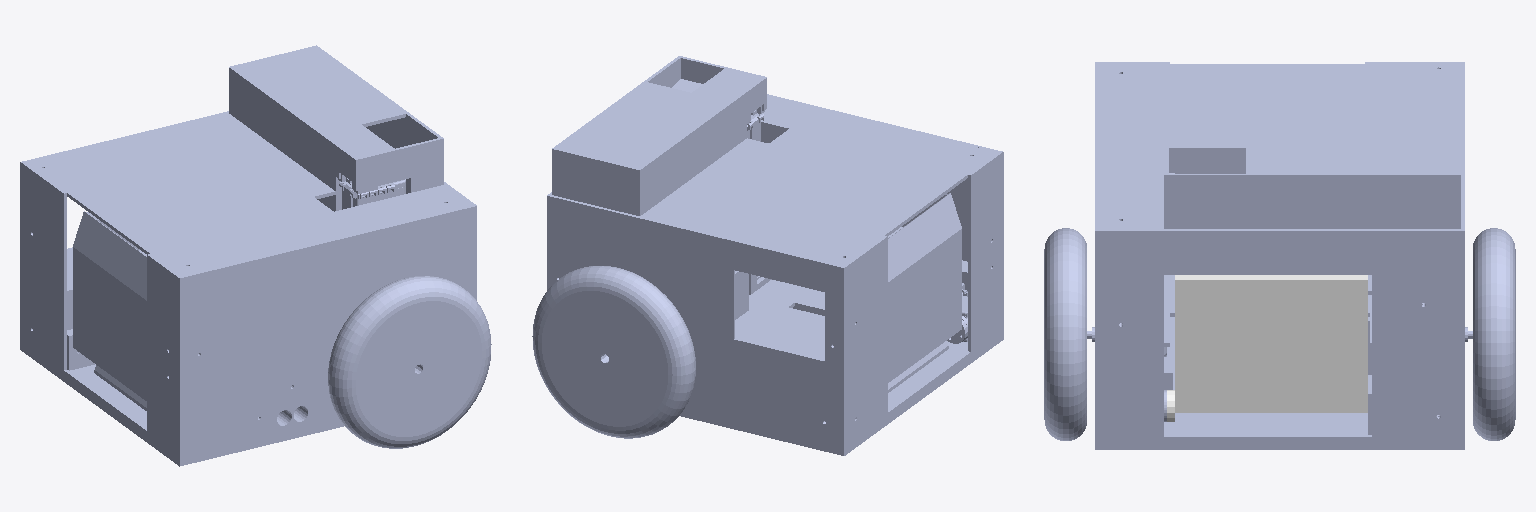
robot.urdf — TNBD_proto4:
<?xml version="1.0" encoding="utf-8"?>
<!-- This URDF was automatically created by SolidWorks to URDF Exporter! Originally created by [author] ([email redacted]) 
     Commit Version: 1.6.0-1-g15f4949  Build Version: 1.6.7594.29634
     For more information, please see http://wiki.ros.org/sw_urdf_exporter -->
<robot
  name="TNBD_proto4">
  <link
    name="base_link">
    <inertial>
      <origin
        xyz="-0.0132871229028092 -0.0190872156314786 -0.0165094953014788"
        rpy="0 0 0" />
      <mass
        value="3.79600627082132" />
      <inertia
        ixx="0.00950873308951061"
        ixy="-4.41730297888479E-05"
        ixz="-0.000344061860957029"
        iyy="0.015823556089242"
        iyz="-0.000165763768209665"
        izz="0.00921479103261655" />
    </inertial>
    <visual>
      <origin
        xyz="0 0 0"
        rpy="0 0 0" />
      <geometry>
        <mesh
          filename="package://TNBD_proto4/meshes/base_link.STL" />
      </geometry>
      <material
        name="">
        <color
          rgba="0.792156862745098 0.819607843137255 0.933333333333333 1" />
      </material>
    </visual>
    <collision>
      <origin
        xyz="0 0 0"
        rpy="0 0 0" />
      <geometry>
        <mesh
          filename="package://TNBD_proto4/meshes/base_link.STL" />
      </geometry>
    </collision>
  </link>
  <link
    name="opencr_link">
    <inertial>
      <origin
        xyz="0.018001 -0.018115 -0.0097035"
        rpy="0 0 0" />
      <mass
        value="5.558" />
      <inertia
        ixx="0.070291"
        ixy="0.0017737"
        ixz="-0.0017444"
        iyy="0.055621"
        iyz="7.339E-05"
        izz="0.085928" />
    </inertial>
    <visual>
      <origin
        xyz="0 0 0"
        rpy="0 0 0" />
      <geometry>
        <mesh
          filename="package://TNBD_proto4/meshes/opencr_link.STL" />
      </geometry>
      <material
        name="">
        <color
          rgba="0.79216 0.81961 0.93333 1" />
      </material>
    </visual>
    <collision>
      <origin
        xyz="0 0 0"
        rpy="0 0 0" />
      <geometry>
        <mesh
          filename="package://TNBD_proto4/meshes/opencr_link.STL" />
      </geometry>
    </collision>
  </link>
  <joint
    name="opencr_joint"
    type="fixed">
    <origin
      xyz="0 0 0"
      rpy="0 0 -3.1416" />
    <parent
      link="base_link" />
    <child
      link="opencr_link" />
    <axis
      xyz="0 0 0" />
  </joint>
  <link
    name="lidar_link">
    <inertial>
      <origin
        xyz="1.3394E-08 1.1116E-09 0.029386"
        rpy="0 0 0" />
      <mass
        value="0.13177" />
      <inertia
        ixx="6.9567E-05"
        ixy="-9.5937E-12"
        ixz="-5.2972E-11"
        iyy="6.9567E-05"
        iyz="-4.3961E-12"
        izz="4.4764E-05" />
    </inertial>
    <visual>
      <origin
        xyz="0 0 0"
        rpy="0 0 0" />
      <geometry>
        <mesh
          filename="package://TNBD_proto4/meshes/lidar_link.STL" />
      </geometry>
      <material
        name="">
        <color
          rgba="0.79216 0.81961 0.93333 1" />
      </material>
    </visual>
    <collision>
      <origin
        xyz="0 0 0"
        rpy="0 0 0" />
      <geometry>
        <mesh
          filename="package://TNBD_proto4/meshes/lidar_link.STL" />
      </geometry>
    </collision>
  </link>
  <joint
    name="lidar_joint"
    type="fixed">
    <origin
      xyz="-0.035043 0.0083315 0.077"
      rpy="0 0 0" />
    <parent
      link="base_link" />
    <child
      link="lidar_link" />
    <axis
      xyz="0 0 0" />
  </joint>
  <link
    name="camera_link">
    <inertial>
      <origin
        xyz="-6.59194920871187E-17 -2.45869130610643E-10 0.0165"
        rpy="0 0 0" />
      <mass
        value="0.166876325452904" />
      <inertia
        ixx="2.72223823415769E-05"
        ixy="-2.57260137442447E-19"
        ixz="-3.9560504614118E-19"
        iyy="0.000412109193003404"
        iyz="4.56820466904748E-14"
        izz="0.000409043522275279" />
    </inertial>
    <visual>
      <origin
        xyz="0 0 0"
        rpy="0 0 0" />
      <geometry>
        <mesh
          filename="package://TNBD_proto4/meshes/camera_link.STL" />
      </geometry>
      <material
        name="">
        <color
          rgba="0.792156862745098 0.819607843137255 0.933333333333333 1" />
      </material>
    </visual>
    <collision>
      <origin
        xyz="0 0 0"
        rpy="0 0 0" />
      <geometry>
        <mesh
          filename="package://TNBD_proto4/meshes/camera_link.STL" />
      </geometry>
    </collision>
  </link>
  <joint
    name="camera_joint"
    type="fixed">
    <origin
      xyz="-0.13404 0.0083315 0.092"
      rpy="-1.5708 0 1.5708" />
    <parent
      link="base_link" />
    <child
      link="camera_link" />
    <axis
      xyz="0 0 0" />
  </joint>
  <link
    name="left_wheel_link">
    <inertial>
      <origin
        xyz="1.42594269725294E-15 -8.18789480661053E-16 0.0145"
        rpy="0 0 0" />
      <mass
        value="0.431849530870227" />
      <inertia
        ixx="0.000547310482911071"
        ixy="-5.42101086242752E-20"
        ixz="-5.73967624646076E-20"
        iyy="0.000547310482911071"
        iyz="1.70991957509354E-19"
        izz="0.00103898710950625" />
    </inertial>
    <visual>
      <origin
        xyz="0 0 0"
        rpy="0 0 0" />
      <geometry>
        <mesh
          filename="package://TNBD_proto4/meshes/left_wheel_link.STL" />
      </geometry>
      <material
        name="">
        <color
          rgba="0.792156862745098 0.819607843137255 0.933333333333333 1" />
      </material>
    </visual>
    <collision>
      <origin
        xyz="0 0 0"
        rpy="0 0 0" />
      <geometry>
        <mesh
          filename="package://TNBD_proto4/meshes/left_wheel_link.STL" />
      </geometry>
    </collision>
  </link>
  <joint
    name="left_wheel_joint"
    type="continuous">
    <origin
      xyz="0.027457 -0.12147 -0.0339"
      rpy="-1.5708 0.62286 -3.1416" />
    <parent
      link="base_link" />
    <child
      link="left_wheel_link" />
    <axis
      xyz="0 0 1" />
  </joint>
  <link
    name="right_wheel_link">
    <inertial>
      <origin
        xyz="1.40859546249317E-15 7.97972798949331E-16 -0.0145000000000001"
        rpy="0 0 0" />
      <mass
        value="0.431849530870227" />
      <inertia
        ixx="0.000547310482911071"
        ixy="-8.470329472543E-22"
        ixz="2.71760685640883E-19"
        iyy="0.000547310482911071"
        iyz="-6.44834273233266E-19"
        izz="0.00103898710950625" />
    </inertial>
    <visual>
      <origin
        xyz="0 0 0"
        rpy="0 0 0" />
      <geometry>
        <mesh
          filename="package://TNBD_proto4/meshes/right_wheel_link.STL" />
      </geometry>
      <material
        name="">
        <color
          rgba="0.792156862745098 0.819607843137255 0.933333333333333 1" />
      </material>
    </visual>
    <collision>
      <origin
        xyz="0 0 0"
        rpy="0 0 0" />
      <geometry>
        <mesh
          filename="package://TNBD_proto4/meshes/right_wheel_link.STL" />
      </geometry>
    </collision>
  </link>
  <joint
    name="right_wheel_joint"
    type="continuous">
    <origin
      xyz="0.027457 0.13813 -0.0339"
      rpy="1.5708 -0.0072638 0" />
    <parent
      link="base_link" />
    <child
      link="right_wheel_link" />
    <axis
      xyz="0 0 1" />
  </joint>
  <link
    name="front_link">
    <inertial>
      <origin
        xyz="-0.102550444822188 0.0186362763099482 -0.0499420238037555"
        rpy="0 0 0" />
      <mass
        value="0.273534418315027" />
      <inertia
        ixx="0.000334043672794131"
        ixy="-5.02928734296127E-07"
        ixz="1.34776273983535E-06"
        iyy="0.000793983435909688"
        iyz="6.47618301935972E-05"
        izz="0.000552792585022654" />
    </inertial>
    <visual>
      <origin
        xyz="0 0 0"
        rpy="0 0 0" />
      <geometry>
        <mesh
          filename="package://TNBD_proto4/meshes/front_link.STL" />
      </geometry>
      <material
        name="">
        <color
          rgba="0.792156862745098 0.819607843137255 0.933333333333333 1" />
      </material>
    </visual>
    <collision>
      <origin
        xyz="0 0 0"
        rpy="0 0 0" />
      <geometry>
        <mesh
          filename="package://TNBD_proto4/meshes/front_link.STL" />
      </geometry>
    </collision>
  </link>
  <joint
    name="front_joint"
    type="revolute">
    <origin
      xyz="-0.15554 0 -0.06"
      rpy="2.7286 0 -1.5708" />
    <parent
      link="base_link" />
    <child
      link="front_link" />
    <axis
      xyz="1 0 0" />
    <limit
      lower="0"
      upper="0"
      effort="0"
      velocity="0" />
  </joint>
  <link
    name="feed_link">
    <inertial>
      <origin
        xyz="-0.0165698438786769 2.43555176027144E-15 0.000749999999999959"
        rpy="0 0 0" />
      <mass
        value="0.00143426215563702" />
      <inertia
        ixx="5.89380670397772E-08"
        ixy="3.03577070030744E-20"
        ixz="-5.9410363394351E-22"
        iyy="2.65747442341081E-07"
        iyz="-5.26614939668835E-23"
        izz="3.24147661072495E-07" />
    </inertial>
    <visual>
      <origin
        xyz="0 0 0"
        rpy="0 0 0" />
      <geometry>
        <mesh
          filename="package://TNBD_proto4/meshes/feed_link.STL" />
      </geometry>
      <material
        name="">
        <color
          rgba="0.792156862745098 0.819607843137255 0.933333333333333 1" />
      </material>
    </visual>
    <collision>
      <origin
        xyz="0 0 0"
        rpy="0 0 0" />
      <geometry>
        <mesh
          filename="package://TNBD_proto4/meshes/feed_link.STL" />
      </geometry>
    </collision>
  </link>
  <joint
    name="feed_joint"
    type="revolute">
    <origin
      xyz="0.055457 -0.053668 0.0483"
      rpy="0 0 -1.5706" />
    <parent
      link="base_link" />
    <child
      link="feed_link" />
    <axis
      xyz="0 0 1" />
    <limit
      lower="0"
      upper="0"
      effort="0"
      velocity="0" />
  </joint>
  <link
    name="back_link">
    <inertial>
      <origin
        xyz="0 0 0"
        rpy="0 0 0" />
      <mass
        value="0" />
      <inertia
        ixx="0"
        ixy="0"
        ixz="0"
        iyy="0"
        iyz="0"
        izz="0" />
    </inertial>
    <visual>
      <origin
        xyz="0 0 0"
        rpy="0 0 0" />
      <geometry>
        <mesh
          filename="package://TNBD_proto4/meshes/back_link.STL" />
      </geometry>
      <material
        name="">
        <color
          rgba="1 1 1 1" />
      </material>
    </visual>
    <collision>
      <origin
        xyz="0 0 0"
        rpy="0 0 0" />
      <geometry>
        <mesh
          filename="package://TNBD_proto4/meshes/back_link.STL" />
      </geometry>
    </collision>
  </link>
  <joint
    name="back_joint"
    type="revolute">
    <origin
      xyz="0.085457 0 -0.06"
      rpy="-3.1275 0 -1.5708" />
    <parent
      link="base_link" />
    <child
      link="back_link" />
    <axis
      xyz="1 0 0" />
    <limit
      lower="0"
      upper="0"
      effort="0"
      velocity="0" />
  </joint>
</robot>

--- What the picture shows (computed from the rendered views, not written in the file) ---
Views: 3 orthographic renders of the robot side by side, from view 1: azimuth 30°, elevation 25°; view 2: azimuth 150°, elevation 25°; view 3: azimuth 270°, elevation 25°.
Robot: TNBD_proto4 — 9 links, 8 joints (3 revolute, 2 continuous, 3 fixed); root link base_link; default pose: all joints at 0.
Links seen in each view (by area): view 1: base_link, left_wheel_link, front_link; view 2: base_link, right_wheel_link, front_link; view 3: base_link, back_link, left_wheel_link, right_wheel_link.
Link boxes in pixels (left/top/right/bottom): base_link: left=20, top=45, right=476, bottom=466; left_wheel_link: left=328, top=276, right=491, bottom=448; front_link: left=73, top=211, right=146, bottom=400; base_link: left=547, top=56, right=1003, bottom=455; right_wheel_link: left=532, top=266, right=695, bottom=438; front_link: left=888, top=193, right=967, bottom=382; base_link: left=1087, top=62, right=1472, bottom=449; back_link: left=1167, top=275, right=1367, bottom=421; left_wheel_link: left=1044, top=228, right=1086, bottom=440; right_wheel_link: left=1473, top=228, right=1515, bottom=440.
Size in the robot's own frame: 0.27 by 0.3176 by 0.223 metres.
Meshes: 9 distinct files referenced, 7 mesh visuals loaded (7 binary STL); not drawn: 2 (reference not matched to a file when rendering).